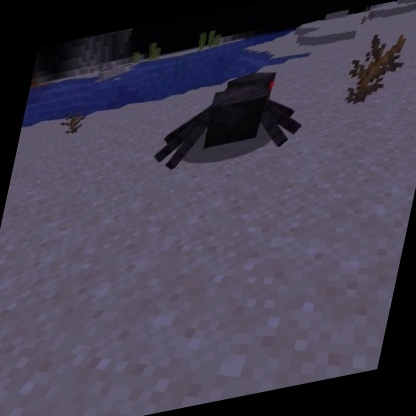spider: (146, 57, 319, 177)
